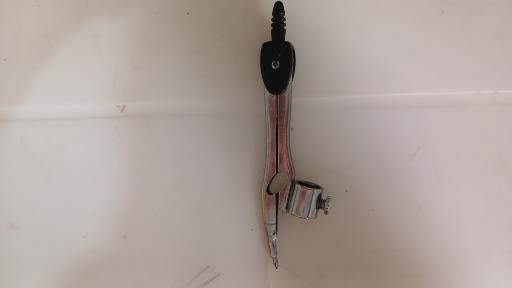Compass: (260, 0, 332, 268)
